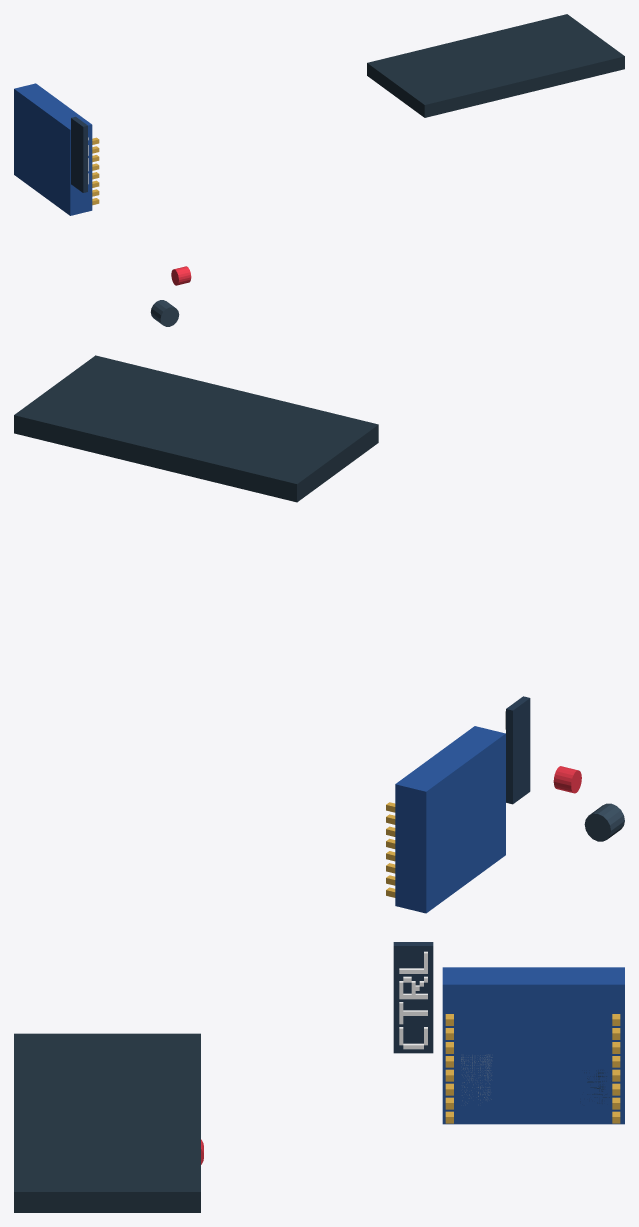
Rendered from MotionReady_Room_Controller.obj.
The picture shows the model from 3 angles, top to bottom: view 1: azimuth 30°, elevation 25°; view 2: azimuth 150°, elevation 25°; view 3: azimuth 270°, elevation 25°; orthographic projection. The views are drawn at different scales.
Parts seen in each view (by area): view 1: LCD_bezel, Arduino_controller_placeholder, Label_CTRL_plate, Status_LED; view 2: LCD_bezel, Arduino_controller_placeholder, Label_CTRL_plate, Status_LED; view 3: LCD_bezel, Arduino_controller_placeholder, Label_CTRL_plate, Controller_pins, Label_CTRL_letters.
Part boxes in pixels (<box>): LCD_bezel: <box>367,14,624,117</box>; Arduino_controller_placeholder: <box>14,83,92,215</box>; Label_CTRL_plate: <box>71,116,87,192</box>; Status_LED: <box>150,300,179,326</box>; LCD_bezel: <box>14,355,378,502</box>; Arduino_controller_placeholder: <box>395,726,505,913</box>; Label_CTRL_plate: <box>506,696,530,804</box>; Status_LED: <box>584,803,624,841</box>; LCD_bezel: <box>14,1033,200,1212</box>; Arduino_controller_placeholder: <box>442,967,624,1124</box>; Label_CTRL_plate: <box>393,942,433,1053</box>; Controller_pins: <box>445,1014,620,1123</box>; Label_CTRL_letters: <box>399,951,427,1049</box>.
Size of the model in its own units: 1742 by 798 by 1340.
